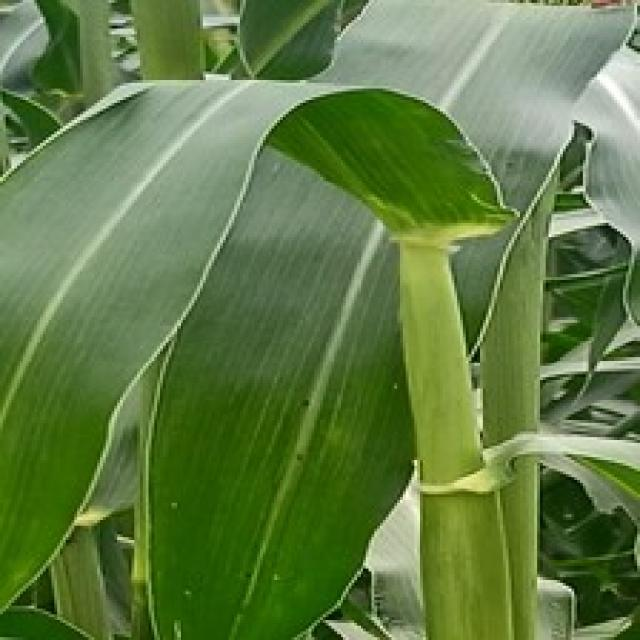Corn: (0, 72, 517, 637), (568, 0, 637, 334)
